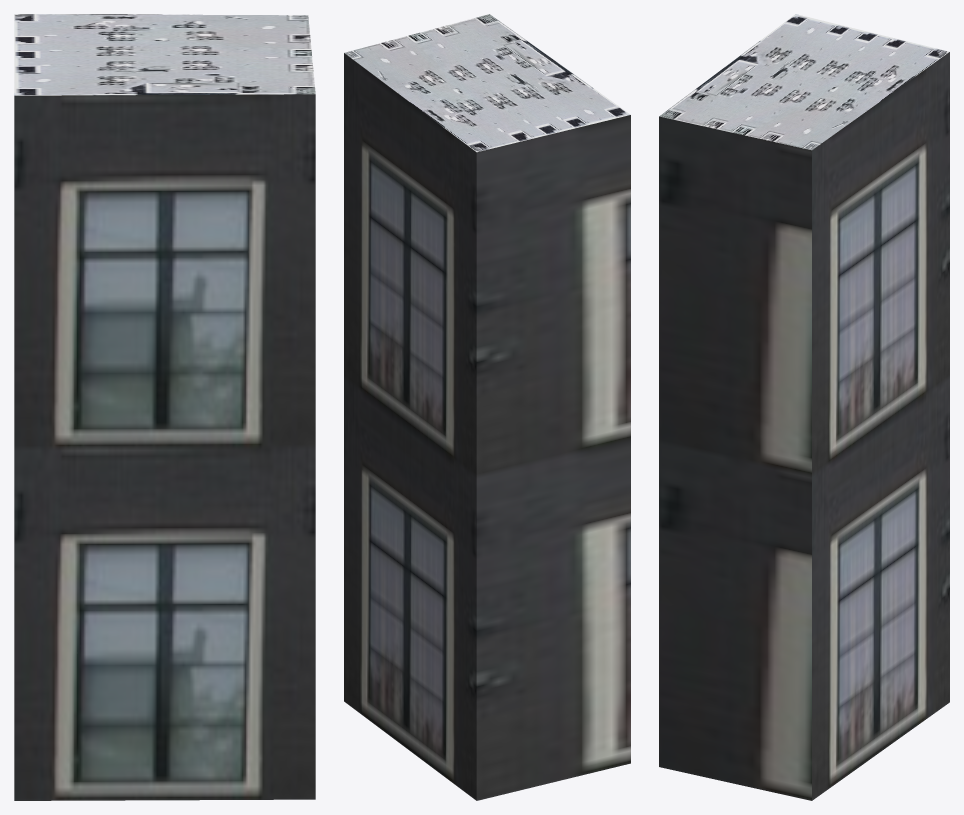
File: ResTex__598.fbx
3 renders of one model, left to right at view 1: azimuth 30°, elevation 25°; view 2: azimuth 150°, elevation 25°; view 3: azimuth 270°, elevation 25°, orthographic. The views are drawn at different scales.
Visible parts, largest first — view 1: CityEngineMaterial_22_m, CityEngineMaterial_8_m; view 2: CityEngineMaterial_22_m, CityEngineMaterial_8_m; view 3: CityEngineMaterial_22_m, CityEngineMaterial_8_m.
Boxes of the visible parts, x1,y1,x2,y2 form: CityEngineMaterial_22_m: [14, 94, 315, 800]; CityEngineMaterial_8_m: [14, 14, 315, 95]; CityEngineMaterial_22_m: [344, 53, 630, 800]; CityEngineMaterial_8_m: [344, 14, 630, 152]; CityEngineMaterial_22_m: [659, 52, 949, 800]; CityEngineMaterial_8_m: [659, 14, 949, 150].
Size of the model in its own units: 2.7 by 6 by 2.43.
2 materials, 2 textured.
